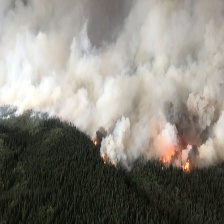fire: (102, 153, 114, 166), (182, 159, 192, 173), (160, 153, 173, 163), (91, 138, 100, 146)
smoke: (1, 1, 224, 159)
